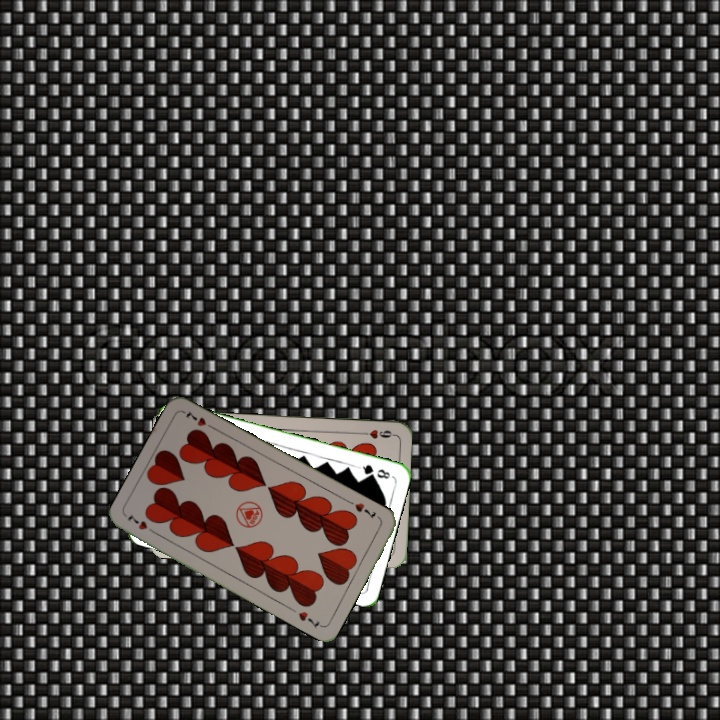G8: (355, 461, 393, 481)
H7: (123, 510, 159, 537), (351, 499, 378, 522)
H9: (355, 426, 396, 441)
